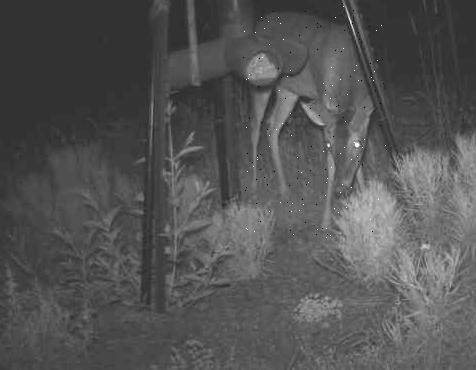Deer: (243, 7, 387, 241)
